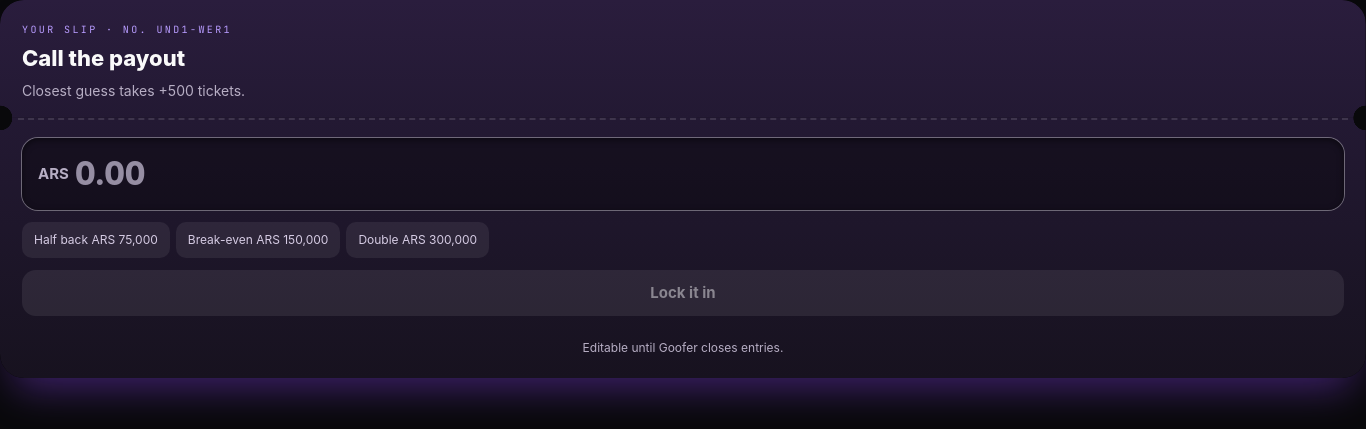
quick picks spread around the start cost
Click the button "Half back ARS 75,000": (96, 240) [22,222,170,258]
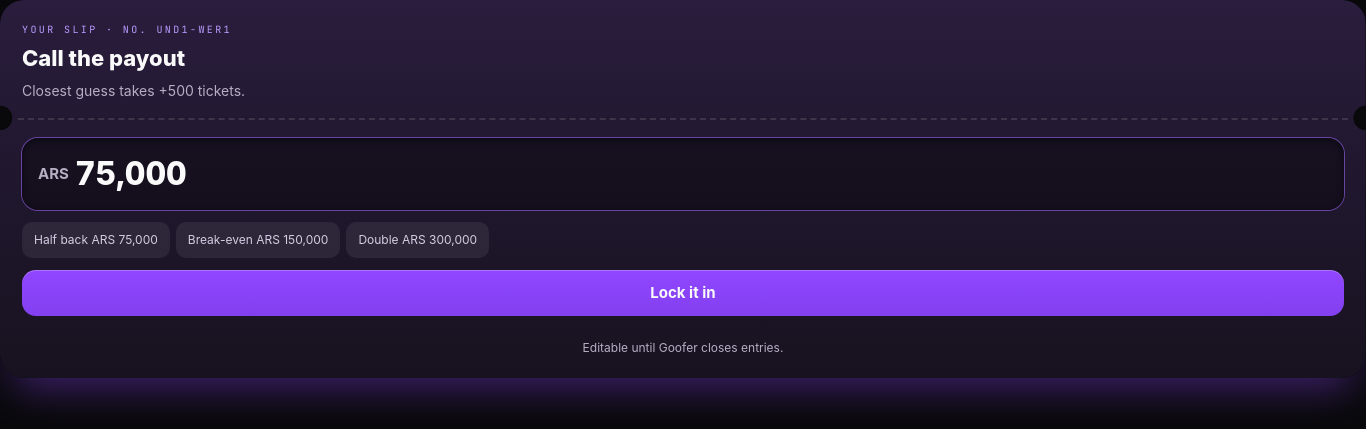
Check: the field named "Final payout guess" holds "75,000", box [75,142,1328,206]
Click the button "Break-even ARS 150,000": (258, 240) [176,222,340,258]
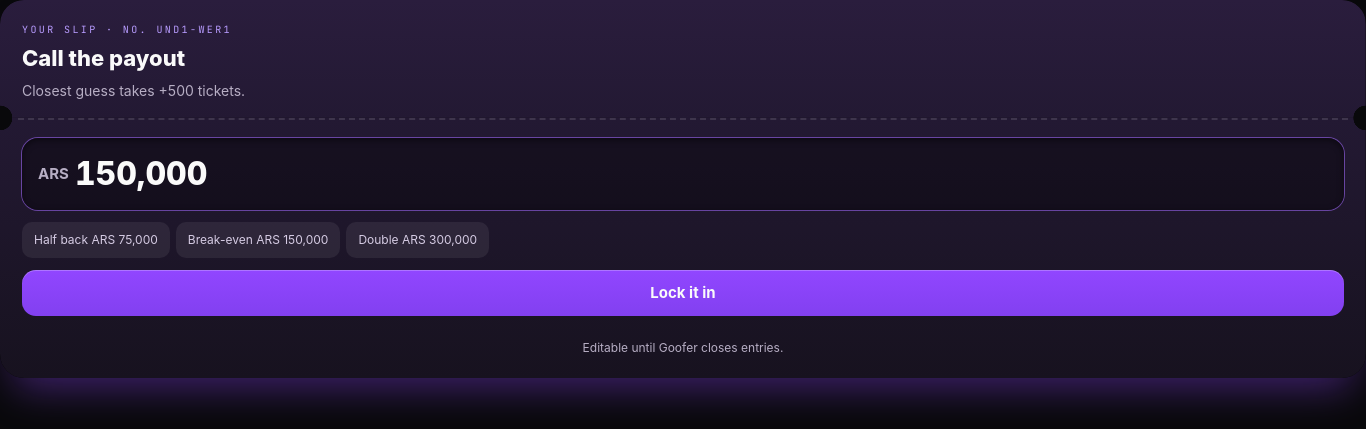
Check: the field named "Final payout guess" holds "150,000", box [75,142,1328,206]
Click the button "Double ARS 300,000": (418, 240) [346,222,489,258]
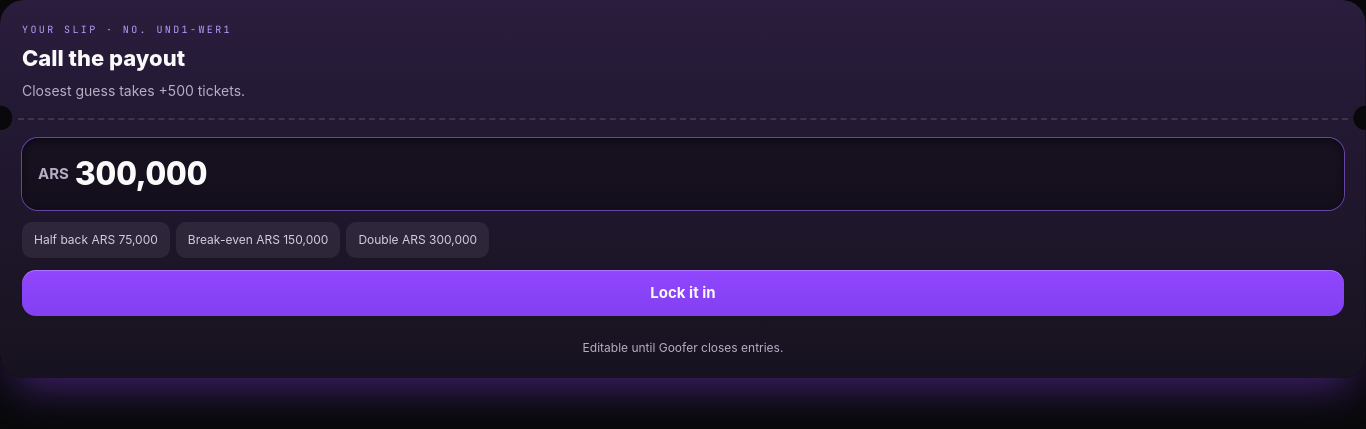
Check: the field named "Final payout guess" holds "300,000", box [75,142,1328,206]
